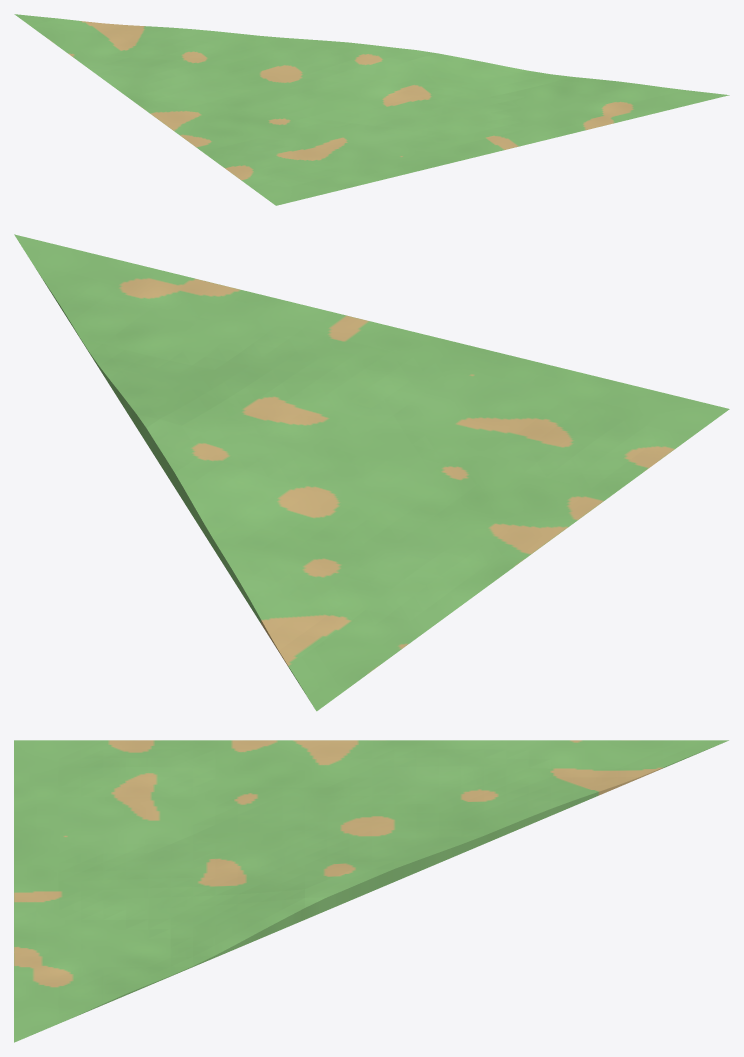
File: Grass_Flat_02_NW.obj
3 renders of one model, top to bottom at view 1: azimuth 30°, elevation 25°; view 2: azimuth 150°, elevation 25°; view 3: azimuth 270°, elevation 25°, orthographic. The views are drawn at different scales.
Bounding box in the file's own units: 10 × 0.2021 × 10.
Materials: 1 (1 with a texture image).
